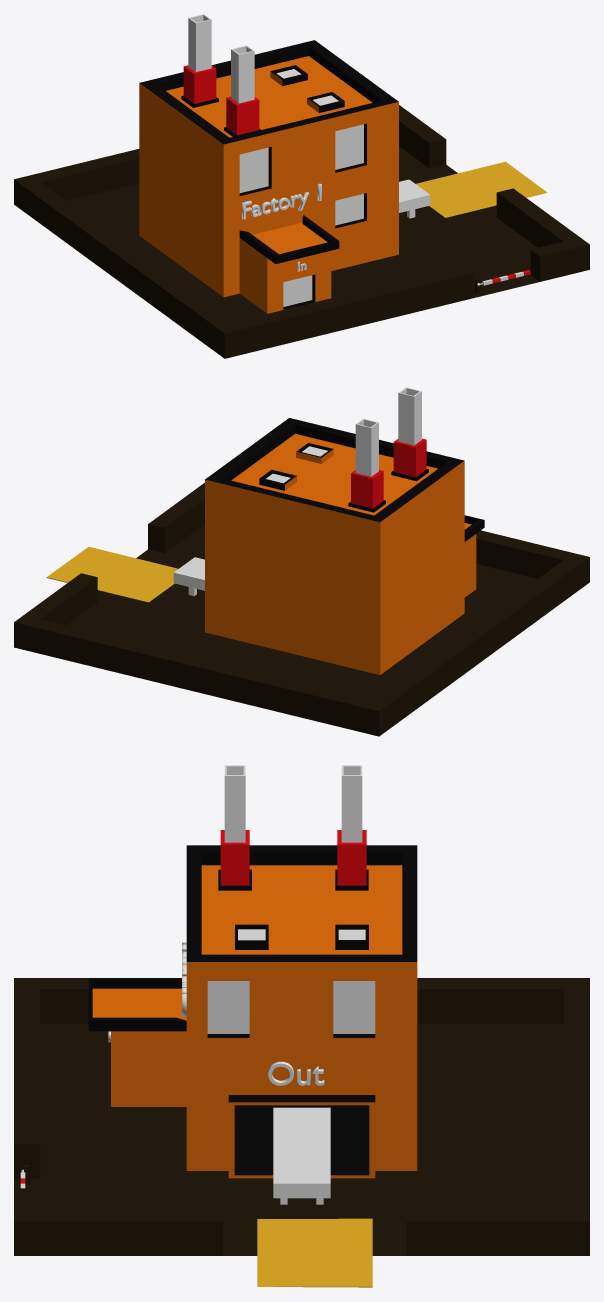
File: Factory1.fbx
3 views of the same model, one above another, from view 1: azimuth 30°, elevation 25°; view 2: azimuth 150°, elevation 25°; view 3: azimuth 270°, elevation 25° (orthographic). The views are drawn at different scales.
Parts seen in each view (by area): view 1: Building.001, Fence.001, Factory.003; view 2: Building.001, Fence.001; view 3: Fence.001, Building.001, Factory.004.
Boxes of the visible parts, x1,y1,x2,y2 form: Building.001: (139,14,430,313); Fence.001: (14,105,589,358); Factory.003: (242,183,321,219); Building.001: (173,387,484,674); Fence.001: (14,483,589,736); Fence.001: (14,978,589,1287); Building.001: (88,765,417,1204); Factory.004: (268,1061,324,1085).
Bounding box in the file's own units: 564 × 298 × 500.
